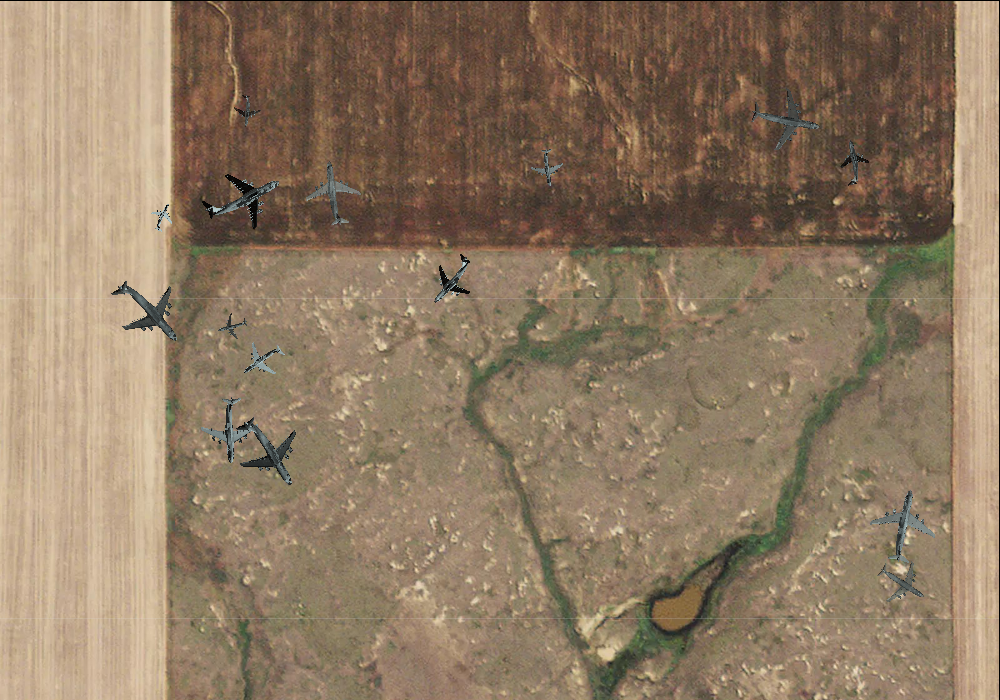plane: (93, 258, 201, 366), (215, 400, 319, 505), (189, 146, 294, 247), (862, 483, 946, 569), (745, 80, 826, 158), (414, 242, 488, 317), (867, 548, 937, 617), (300, 157, 368, 228), (197, 395, 263, 464), (232, 330, 292, 390), (829, 137, 875, 188), (527, 146, 568, 188), (144, 198, 181, 236), (214, 308, 250, 343), (229, 92, 262, 127)
